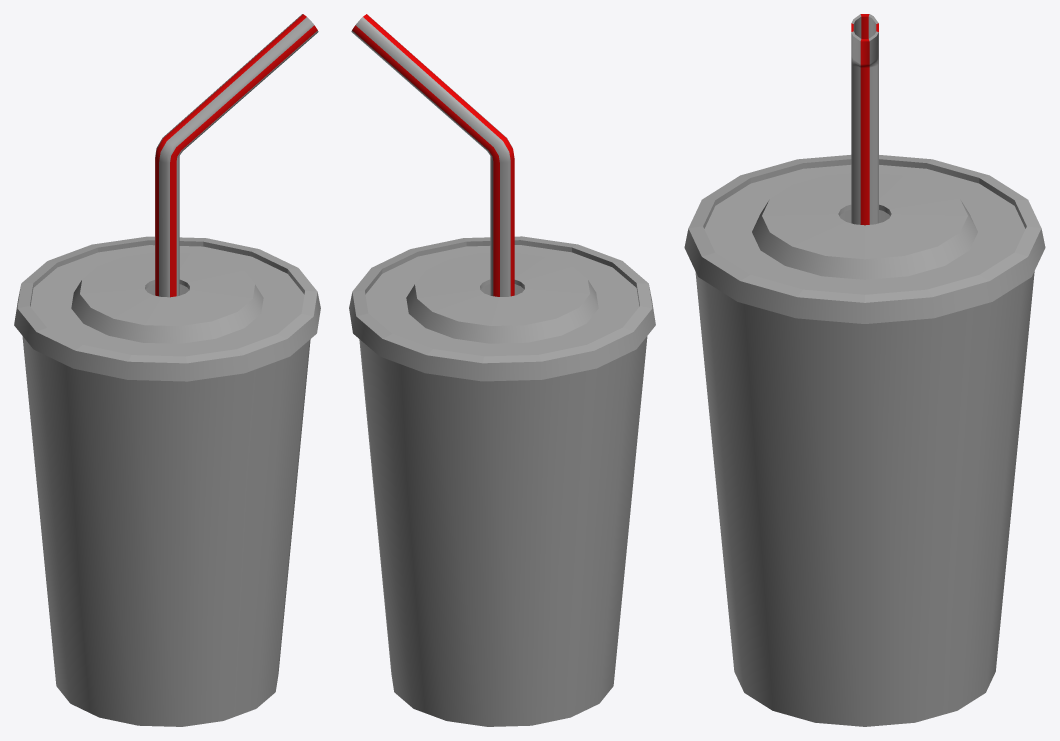
Rendered from fountain_drink_lod1.fbx.
The picture shows the model from 3 angles, left to right: view 1: azimuth 30°, elevation 25°; view 2: azimuth 150°, elevation 25°; view 3: azimuth 270°, elevation 25°; orthographic projection. The views are drawn at different scales.
Visible parts, largest first — view 1: cup, lid, straw; view 2: cup, lid, straw; view 3: cup, lid, straw.
Part boxes in pixels (x1,y1,x2,y2): cup: [22, 284, 310, 726]; lid: [14, 236, 320, 381]; straw: [155, 14, 318, 297]; cup: [359, 284, 647, 726]; lid: [349, 236, 655, 381]; straw: [351, 14, 514, 296]; cup: [695, 210, 1034, 726]; lid: [684, 155, 1045, 323]; straw: [851, 14, 878, 225].
Bounding box in the file's own units: 12.3 × 26.28 × 11.68.
